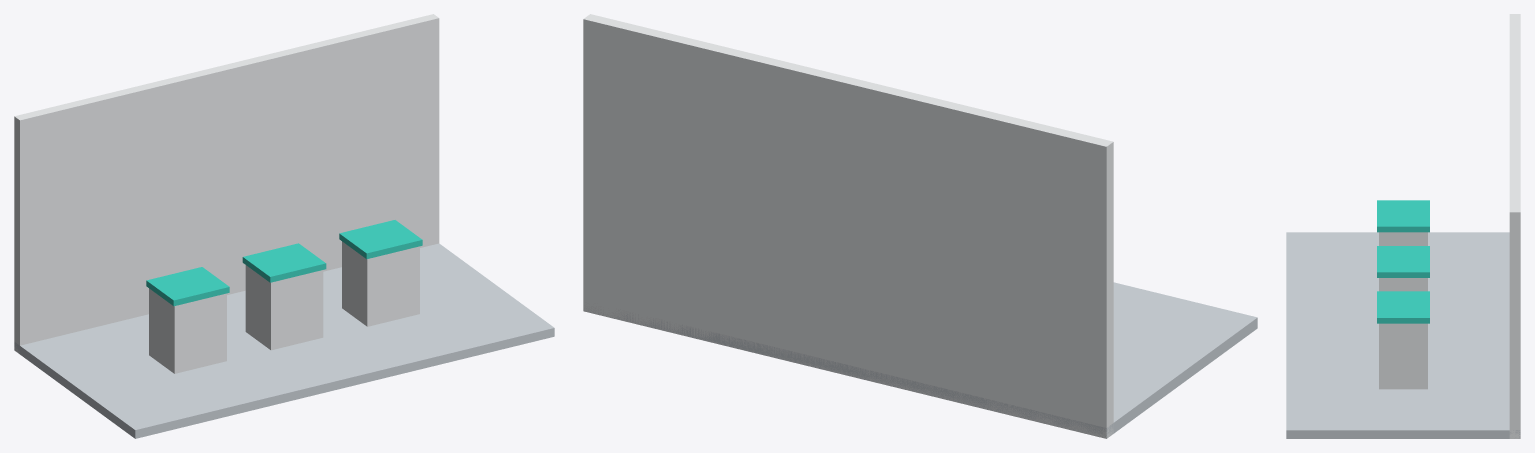
3 views of the same model, side by side, from view 1: azimuth 30°, elevation 25°; view 2: azimuth 150°, elevation 25°; view 3: azimuth 270°, elevation 25° (orthographic). The views are drawn at different scales.
Parts seen in each view (by area): view 1: Exhibition Booth Concept; view 2: Exhibition Booth Concept; view 3: Exhibition Booth Concept.
Boxes of the visible parts, <box> form: Exhibition Booth Concept: <box>14,14,554,438</box>; Exhibition Booth Concept: <box>583,14,1257,438</box>; Exhibition Booth Concept: <box>1286,14,1520,438</box>.
Bounding box in the file's own units: 6 × 3.2 × 3.
